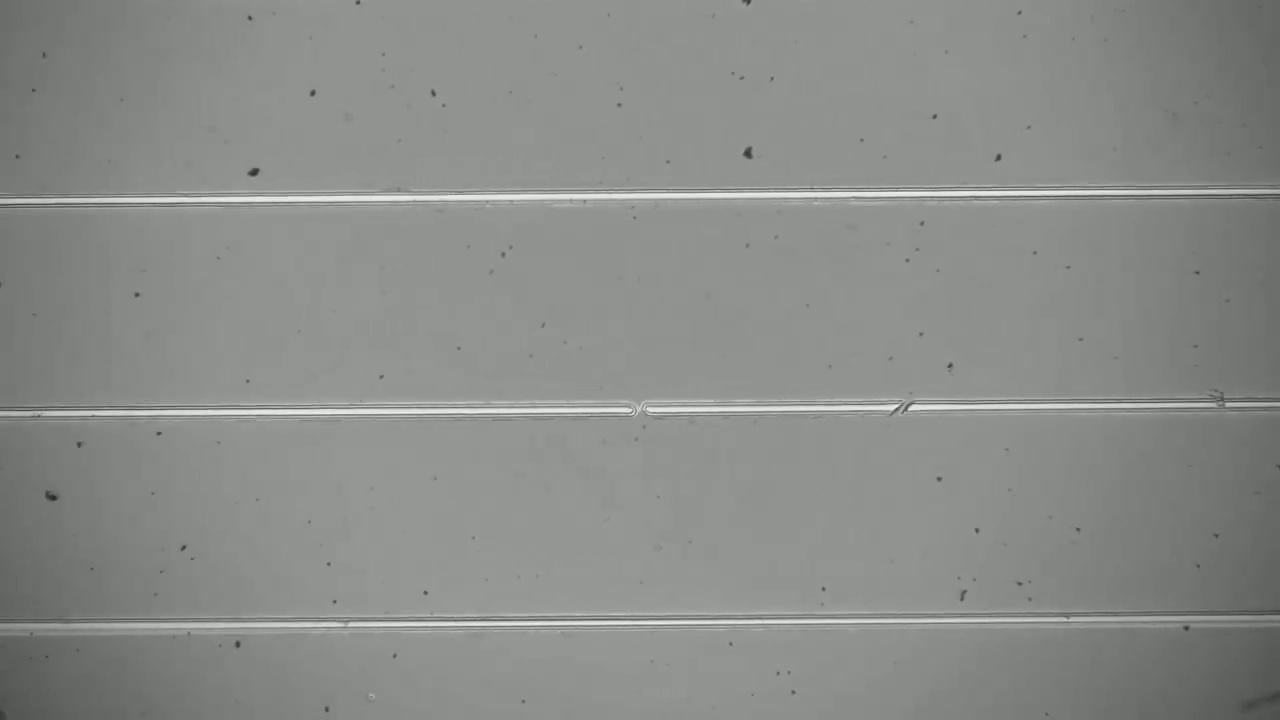open: (614, 391, 659, 433), (879, 392, 924, 430)
stains_enbedded: (1196, 380, 1236, 421)
